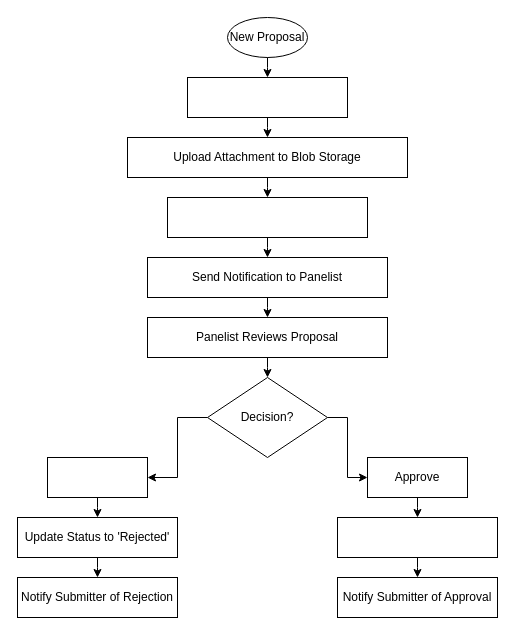
The diagram is 515 pixels wide and 635 high, and some of its shapes have lost their labels. The shapes that lost their labels are listed below. From the top down, each one's centre as x and y in pixels, then its label:
At point (267, 97): "Submit Proposal".
At point (267, 217): "Assign Status 'Submitted'".
At point (97, 477): "Reject".
At point (417, 537): "Update Status to 'Approved'".
